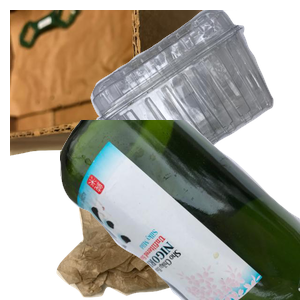cardboard: (10, 10, 237, 158)
glass: (60, 120, 300, 300)
plastic: (88, 10, 300, 180)
trash: (54, 147, 271, 300)
